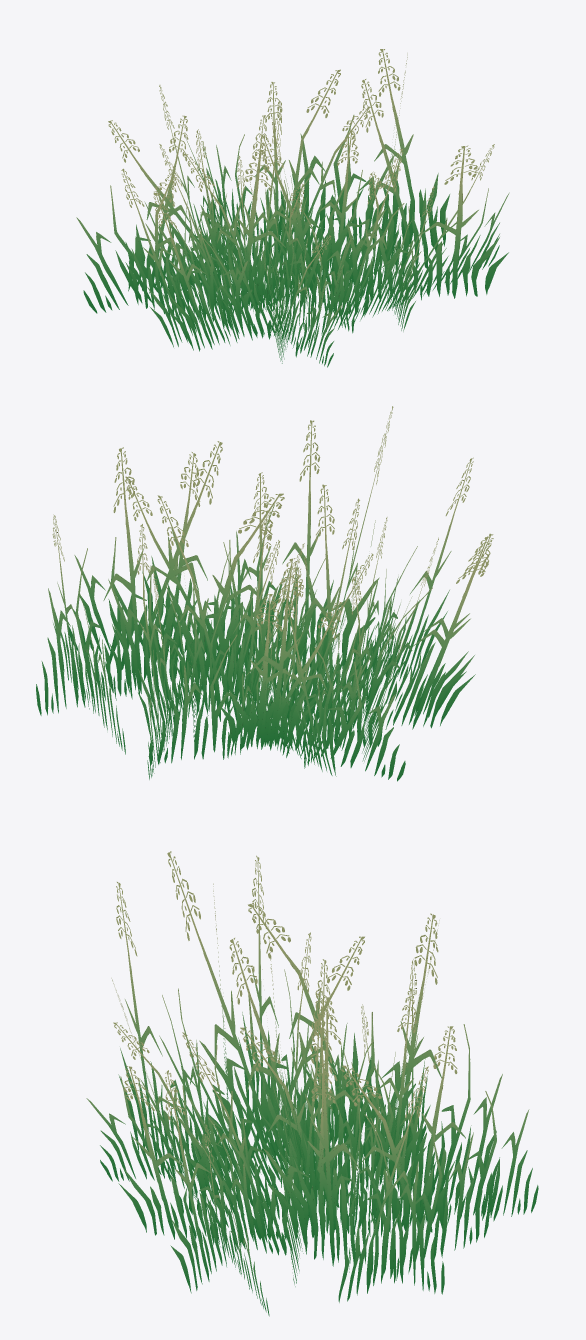
File: furryGrass.fbx
3 renders of one model, top to bottom at view 1: azimuth 30°, elevation 25°; view 2: azimuth 150°, elevation 25°; view 3: azimuth 270°, elevation 25°, orthographic. The views are drawn at different scales.
Visible parts, largest first — view 1: PT_Grass_02_LOD0_furry; view 2: PT_Grass_02_LOD0_furry; view 3: PT_Grass_02_LOD0_furry.
Boxes of the visible parts, x1,y1,x2,y2 form: PT_Grass_02_LOD0_furry: (76, 49, 509, 367); PT_Grass_02_LOD0_furry: (36, 406, 493, 781); PT_Grass_02_LOD0_furry: (86, 851, 538, 1316).
Size of the model in its own units: 124 by 68.42 by 99.38.
